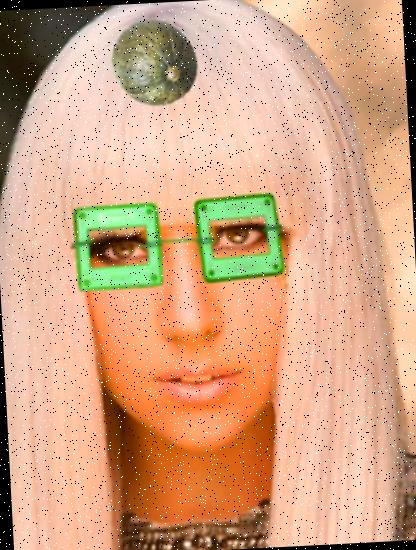Melon: (106, 13, 206, 113)
